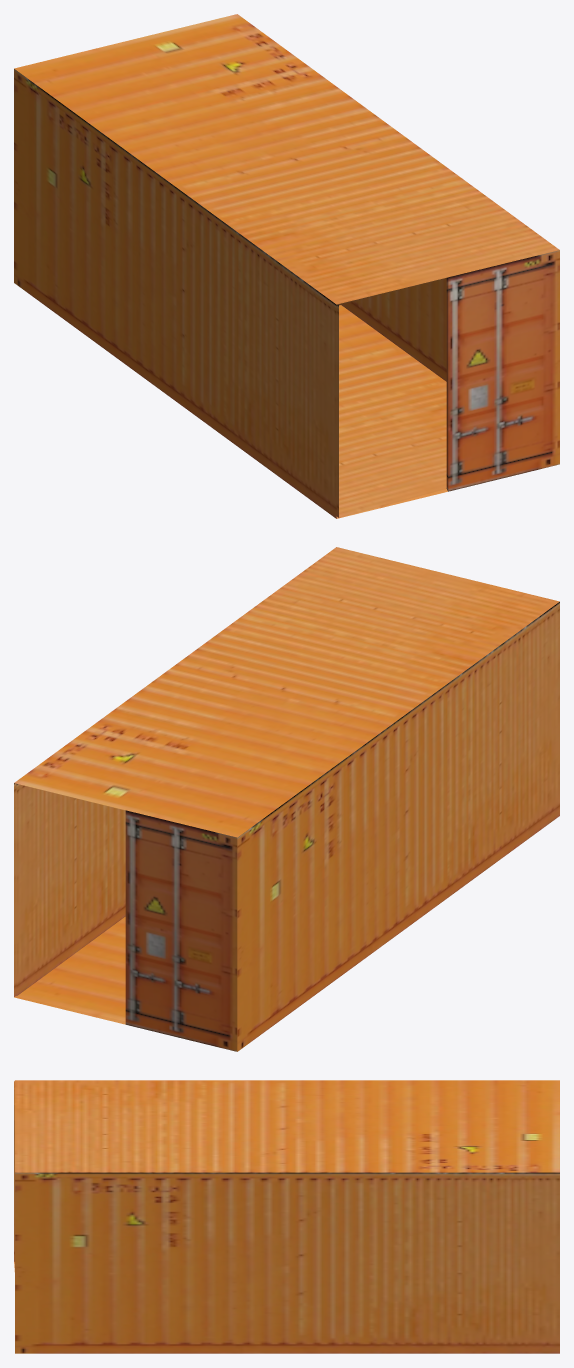
Rendered from container_shell.1278cd16ea.glb.
The picture shows the model from 3 angles, top to bottom: view 1: azimuth 30°, elevation 25°; view 2: azimuth 150°, elevation 25°; view 3: azimuth 270°, elevation 25°; orthographic projection. The views are drawn at different scales.
Visible parts, largest first — view 1: container_shell; view 2: container_shell; view 3: container_shell.
Boxes of the visible parts, x1,y1,x2,y2 form: container_shell: [14, 14, 559, 518]; container_shell: [14, 547, 559, 1051]; container_shell: [14, 1080, 559, 1353].
Bounding box in the file's own units: 2.4 × 2.2 × 6.
Materials: 1 (1 with a texture image).
